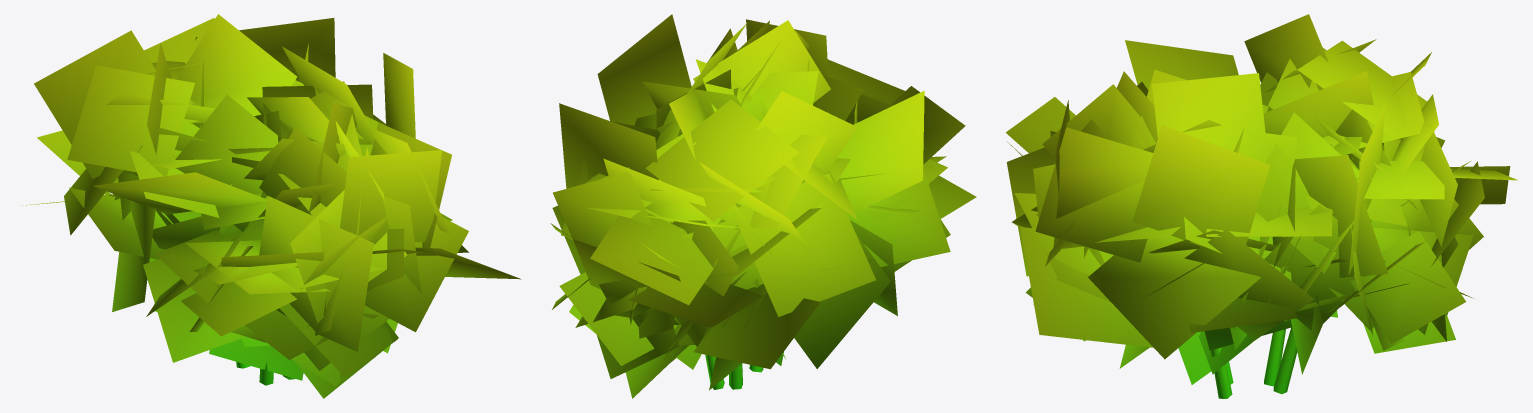
File: shrub_a.glb
The picture shows the model from 3 angles, left to right: view 1: azimuth 30°, elevation 25°; view 2: azimuth 150°, elevation 25°; view 3: azimuth 270°, elevation 25°; orthographic projection. The views are drawn at different scales.
Visible parts, largest first — view 1: shrub_a; view 2: shrub_a; view 3: shrub_a.
Part boxes in pixels (x1,y1,x2,y2): shrub_a: [19, 14, 521, 398]; shrub_a: [550, 14, 976, 398]; shrub_a: [1005, 14, 1517, 398].
Size of the model in its own units: 1.87 by 1.7 by 2.34.
